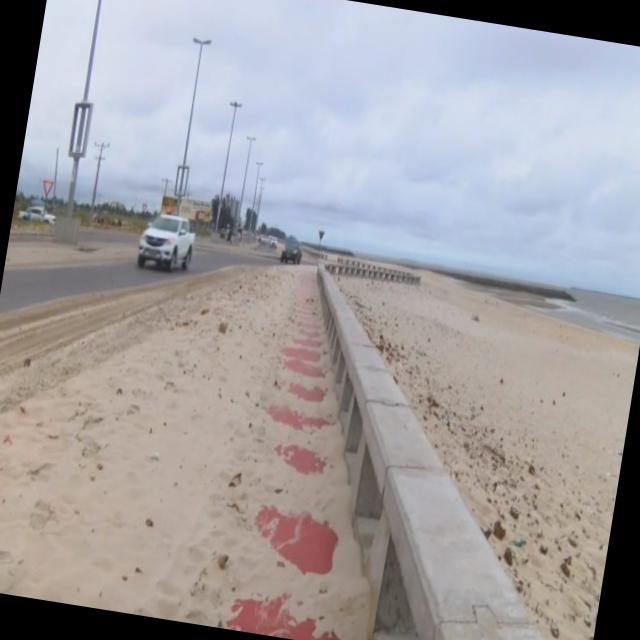car: (135, 210, 199, 276), (19, 201, 57, 225), (280, 236, 305, 267), (268, 235, 279, 250)
